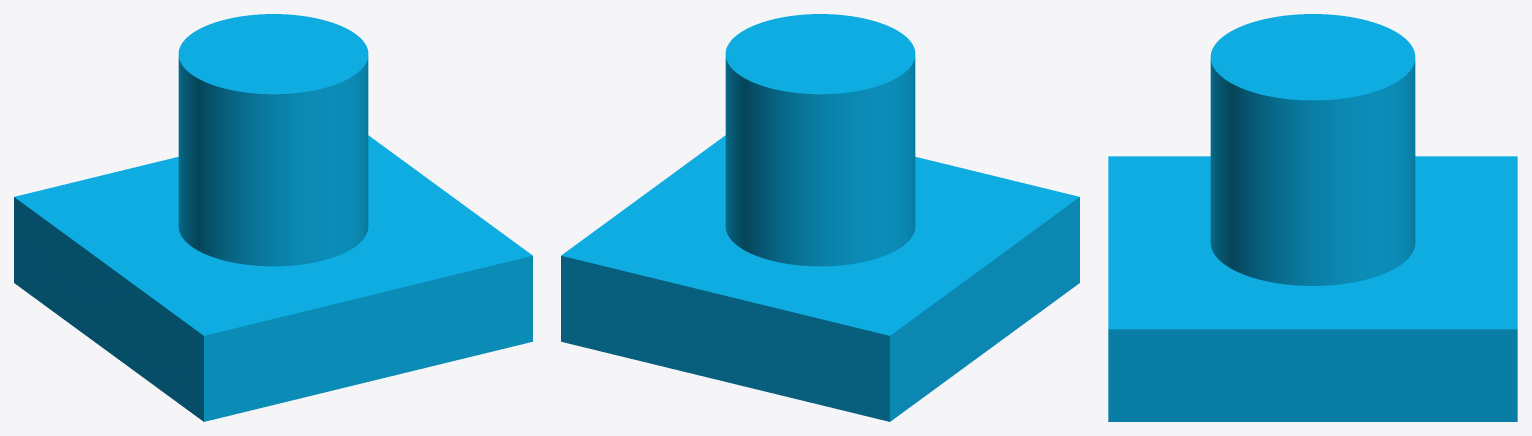
Rendered from workplane-2.gltf.
3 views of the same model, side by side, from view 1: azimuth 30°, elevation 25°; view 2: azimuth 150°, elevation 25°; view 3: azimuth 270°, elevation 25° (orthographic). The views are drawn at different scales.
Visible parts, largest first — view 1: Gövde; view 2: Gövde; view 3: Gövde.
Boxes of the visible parts, bbox=[...] form: Gövde: bbox=[14, 14, 532, 421]; Gövde: bbox=[561, 14, 1079, 421]; Gövde: bbox=[1108, 14, 1517, 421].
Size of the model in its own units: 0.04 by 0.03 by 0.04.
